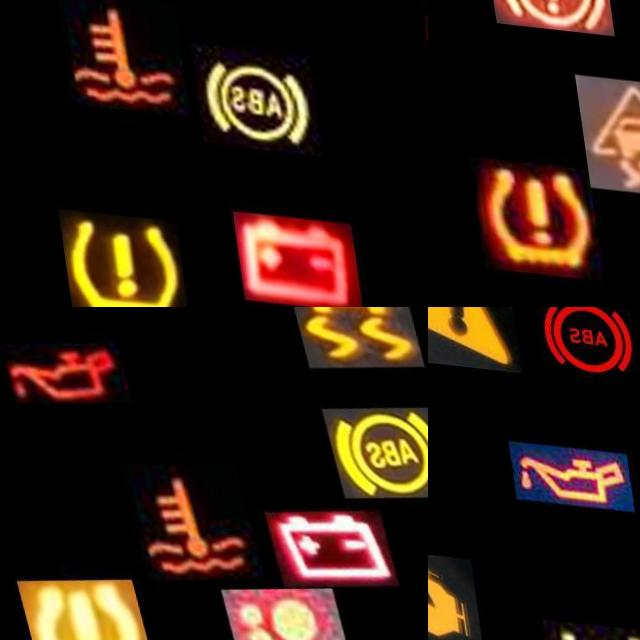Central Warning lamp: (428, 307, 517, 367)
Engine cooling system: (111, 447, 257, 586), (48, 0, 178, 111)
